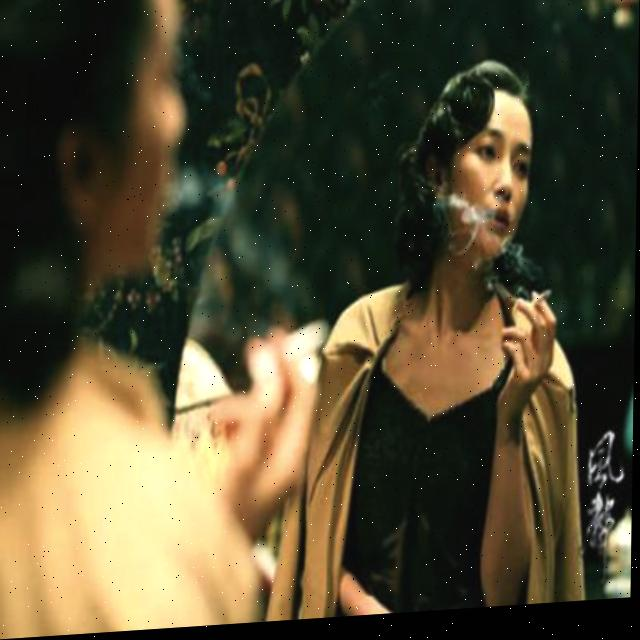cigarette: (533, 296, 554, 315)
